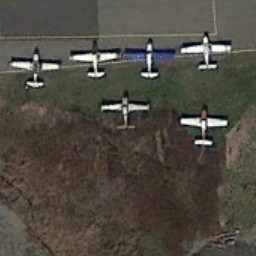Airplane: (174, 101, 232, 158), (6, 44, 63, 94), (121, 35, 177, 83), (67, 36, 120, 85), (94, 90, 154, 133), (179, 29, 235, 74)
